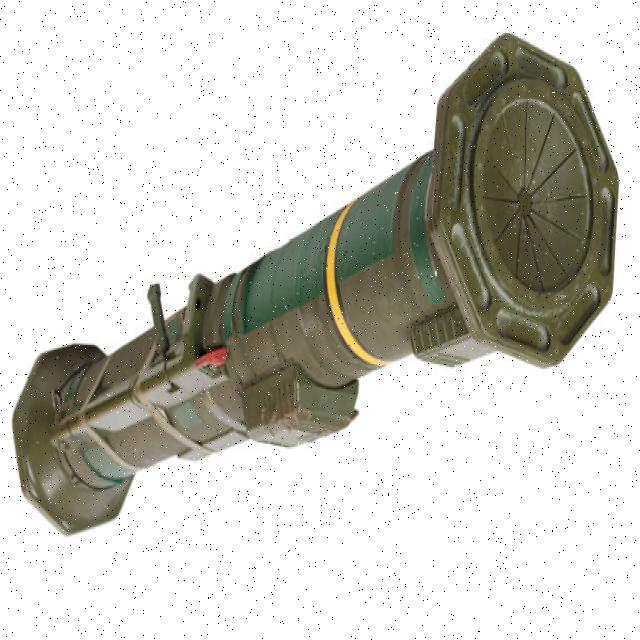bazooka: (8, 28, 629, 560)
